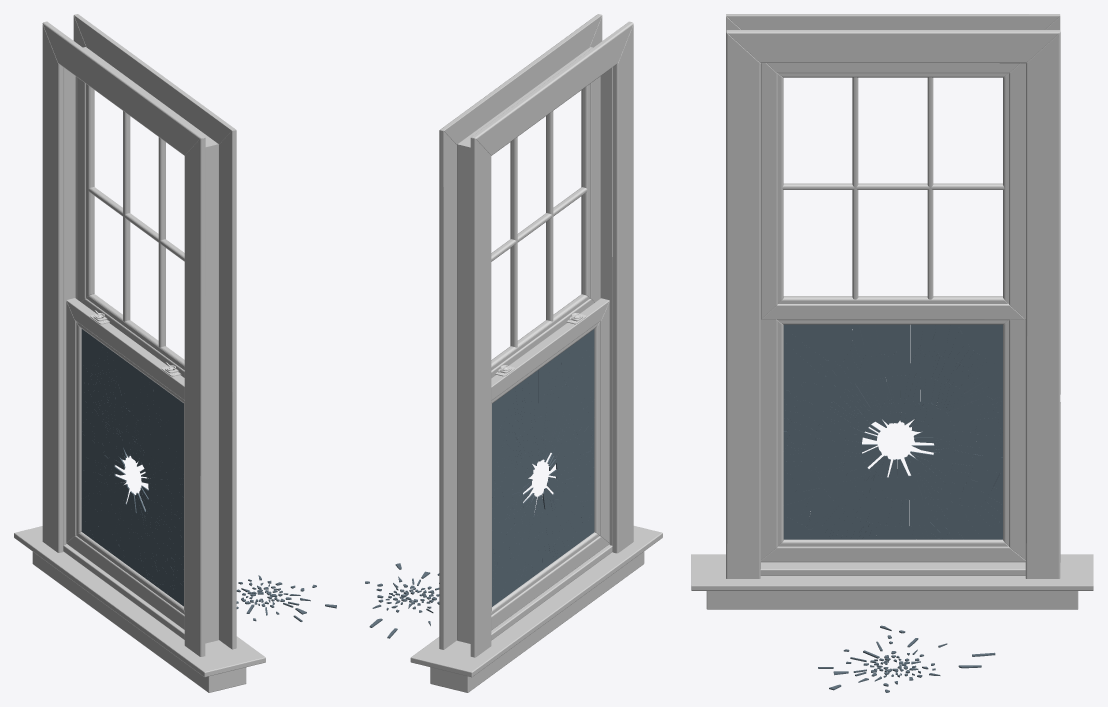
The model's file is Trace-Evidence-Glass.gltf.
3 views of the same model, side by side, from view 1: azimuth 30°, elevation 25°; view 2: azimuth 150°, elevation 25°; view 3: azimuth 270°, elevation 25° (orthographic). The views are drawn at different scales.
Visible parts, largest first — view 1: Double_Hung_Window, Plane_cell.780, Plane_cell.746; view 2: Double_Hung_Window, Plane_cell.746, Plane_cell.780; view 3: Double_Hung_Window, Plane_cell.746, Plane_cell.780, Plane_cell.719.
Boxes of the visible parts, x1=… form: Double_Hung_Window: x1=14, y1=14, x2=265, y2=692; Plane_cell.780: x1=81, y1=329, x2=102, y2=366; Plane_cell.746: x1=159, y1=387, x2=183, y2=422; Double_Hung_Window: x1=410, y1=14, x2=662, y2=692; Plane_cell.746: x1=568, y1=329, x2=594, y2=380; Plane_cell.780: x1=492, y1=390, x2=511, y2=439; Double_Hung_Window: x1=691, y1=14, x2=1093, y2=609; Plane_cell.746: x1=783, y1=324, x2=839, y2=360; Plane_cell.780: x1=958, y1=324, x2=1002, y2=363; Plane_cell.719: x1=783, y1=341, x2=819, y2=384.
Bounding box in the file's own units: 4.9 × 12.59 × 7.91.
